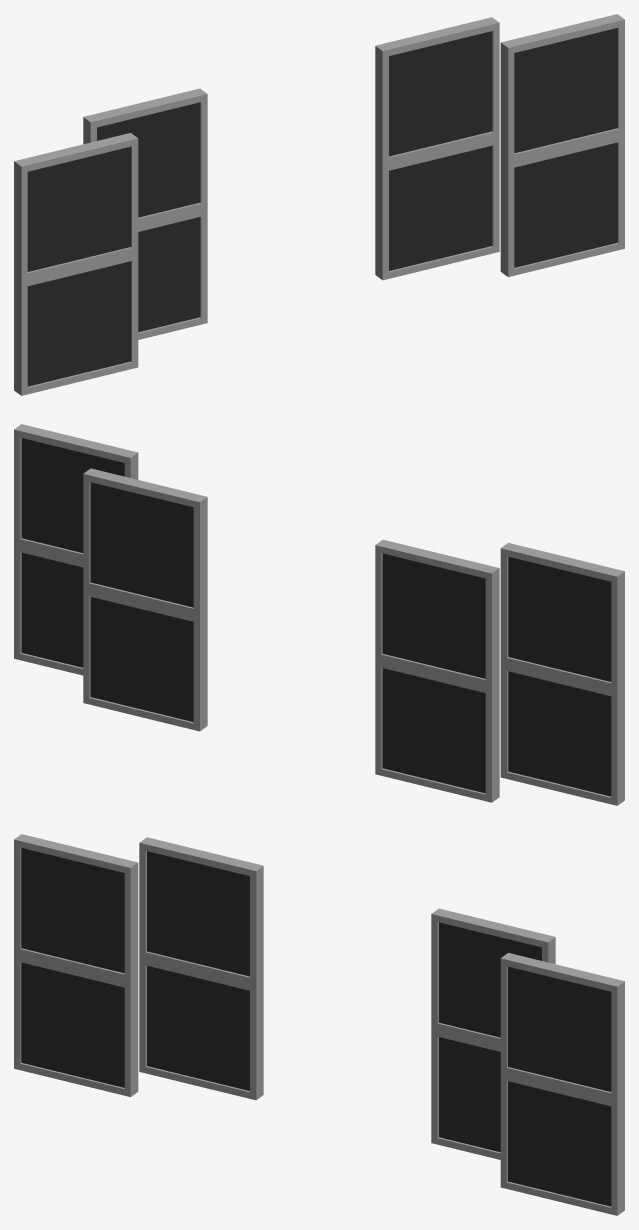
The model's file is puerta.fbx.
The picture shows the model from 3 angles, top to bottom: view 1: azimuth 30°, elevation 25°; view 2: azimuth 150°, elevation 25°; view 3: azimuth 330°, elevation 25°; orthographic projection.
Visible parts, largest first — view 1: puerta_inamovible, puerta_corrediza, puerta_inamovible2, puerta_corrediza2; view 2: puerta_corrediza2, puerta_corrediza, puerta_inamovible, puerta_inamovible2; view 3: puerta_corrediza2, puerta_corrediza, puerta_inamovible2, puerta_inamovible.
Boxes of the visible parts, box(x1,y1,x2,y2) form: puerta_inamovible: box(375, 17, 499, 280); puerta_corrediza: box(14, 133, 138, 395); puerta_inamovible2: box(500, 14, 624, 276); puerta_corrediza2: box(83, 88, 207, 339); puerta_corrediza2: box(375, 539, 499, 802); puerta_corrediza: box(500, 543, 624, 805); puerta_inamovible: box(83, 468, 207, 731); puerta_inamovible2: box(14, 424, 138, 675); puerta_corrediza2: box(139, 837, 263, 1100); puerta_corrediza: box(14, 834, 138, 1096); puerta_inamovible2: box(500, 953, 624, 1215); puerta_inamovible: box(431, 908, 555, 1159).
Size of the model in its own units: 124 by 45 by 12.69.
